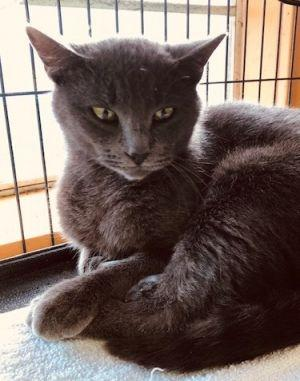rblue: (32, 7, 228, 192)
